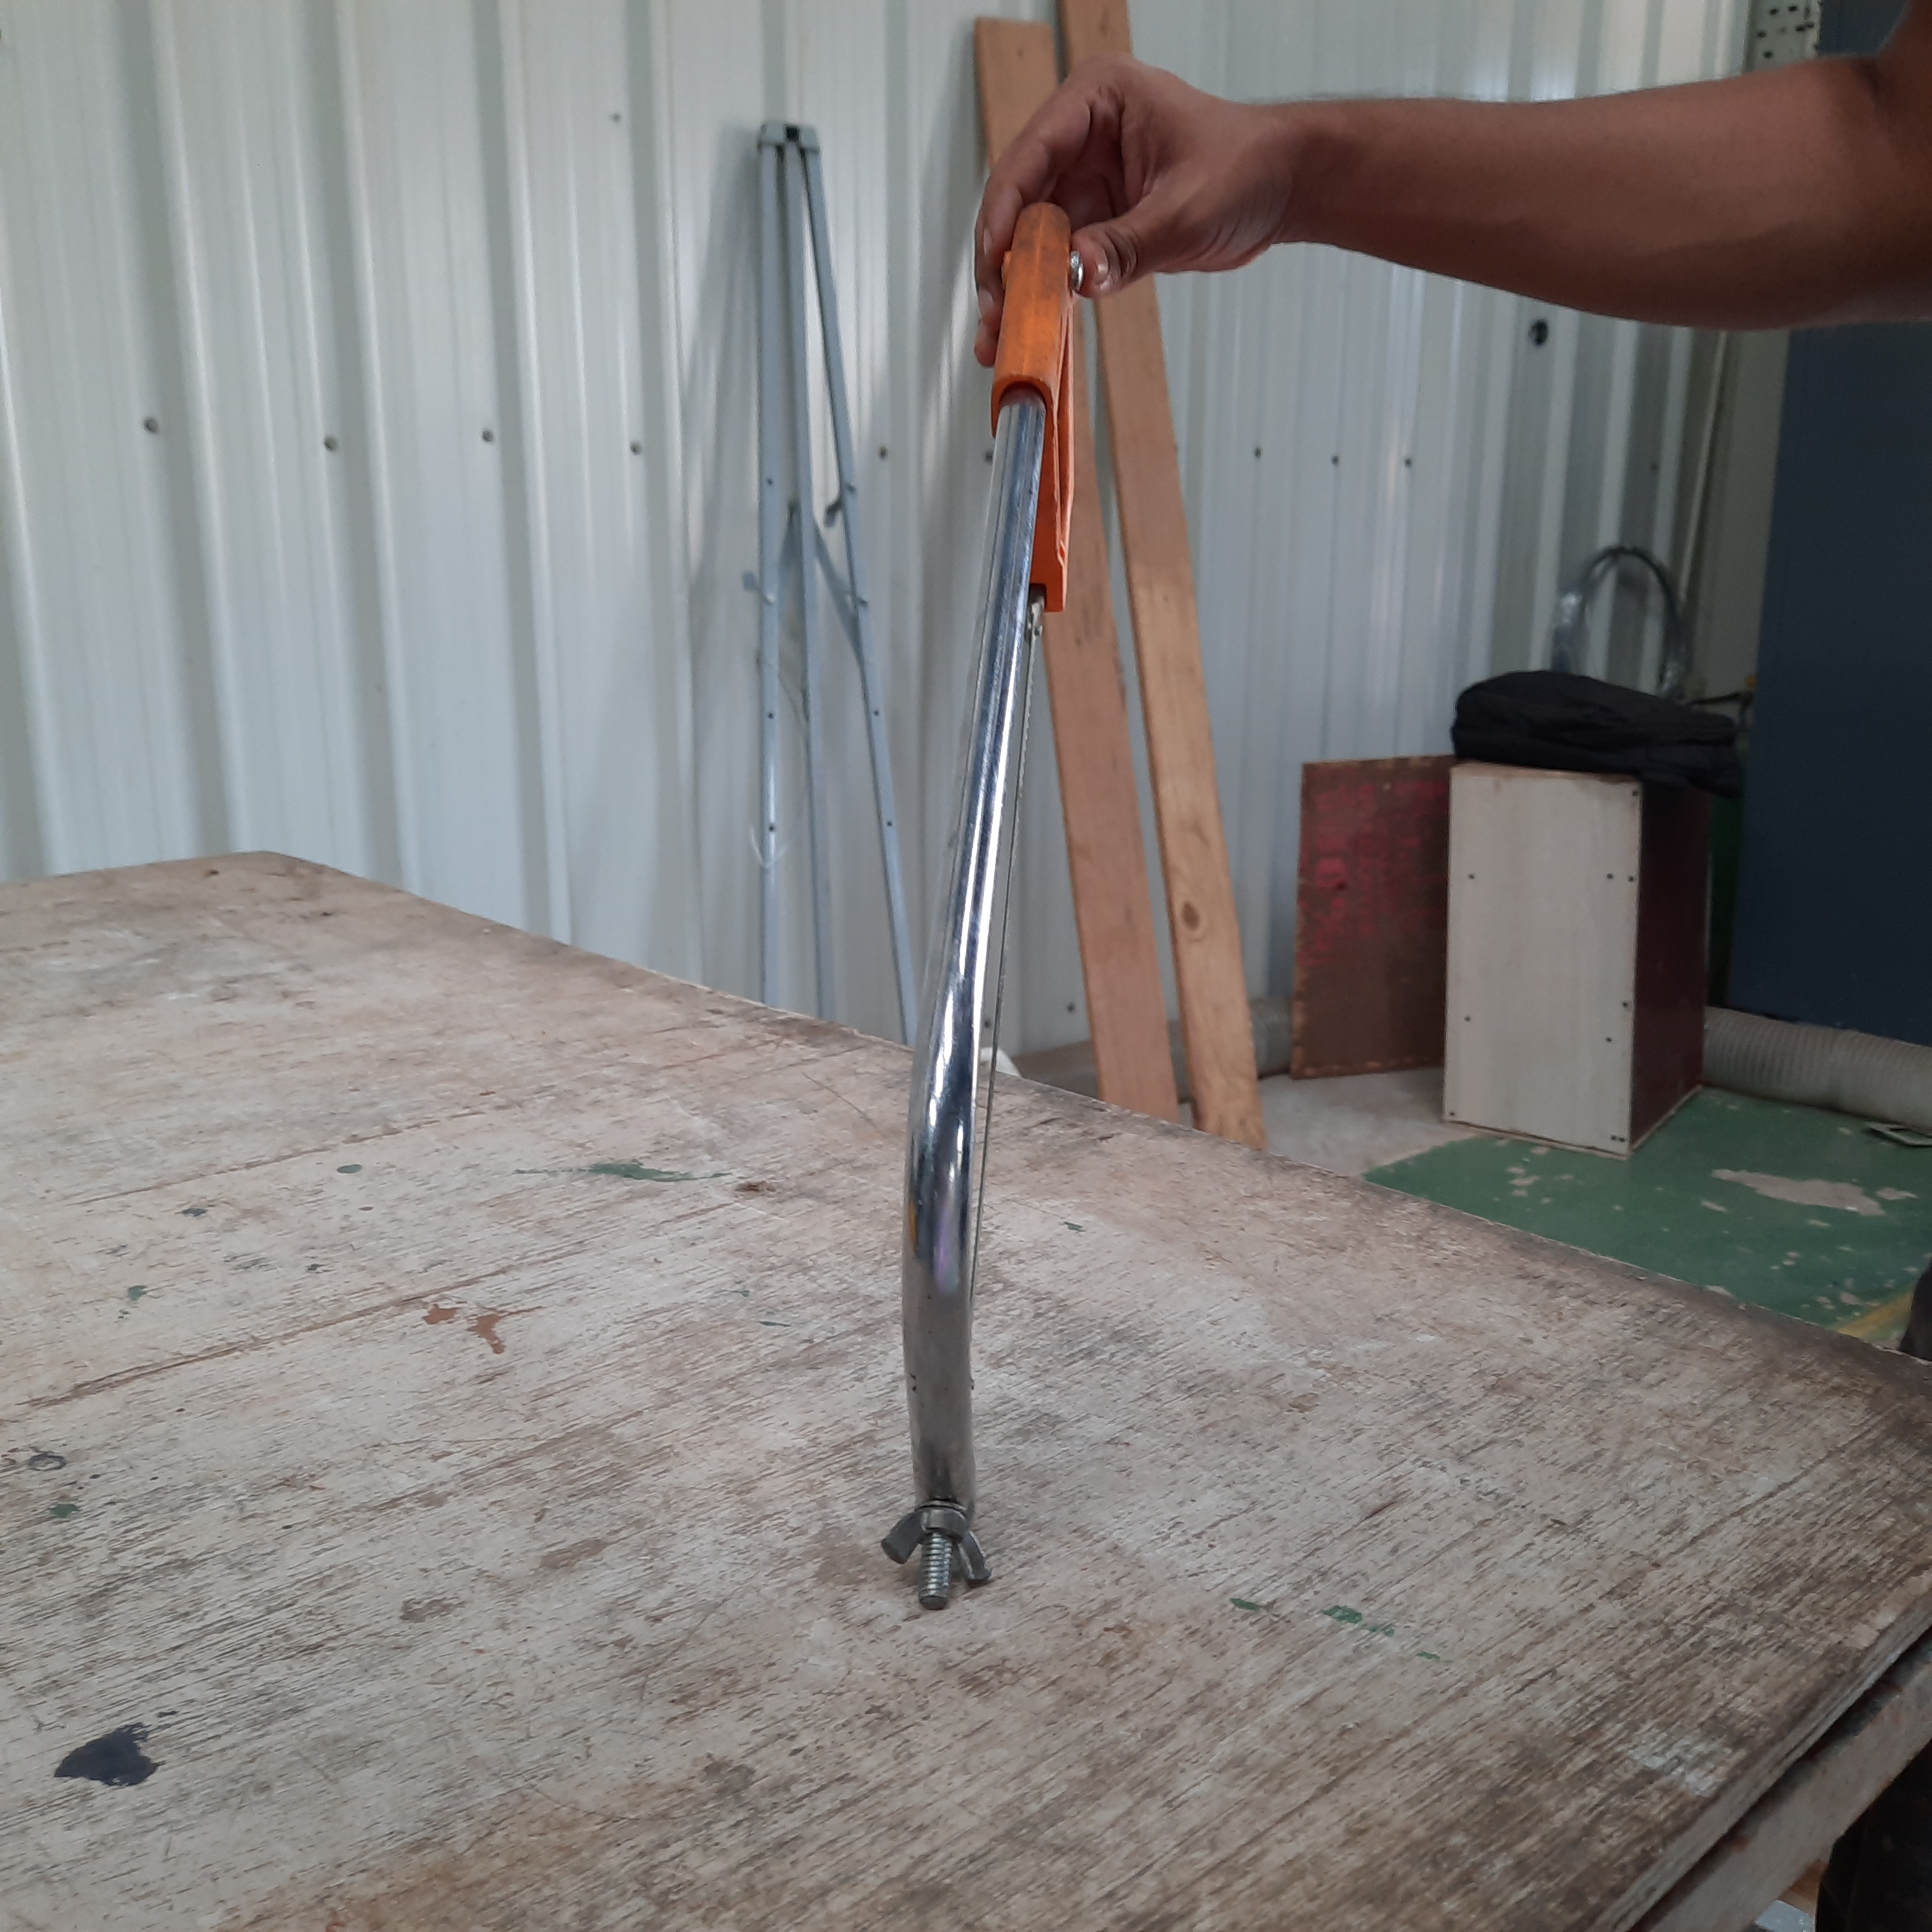Hexaframe: (863, 216, 1177, 1637)
